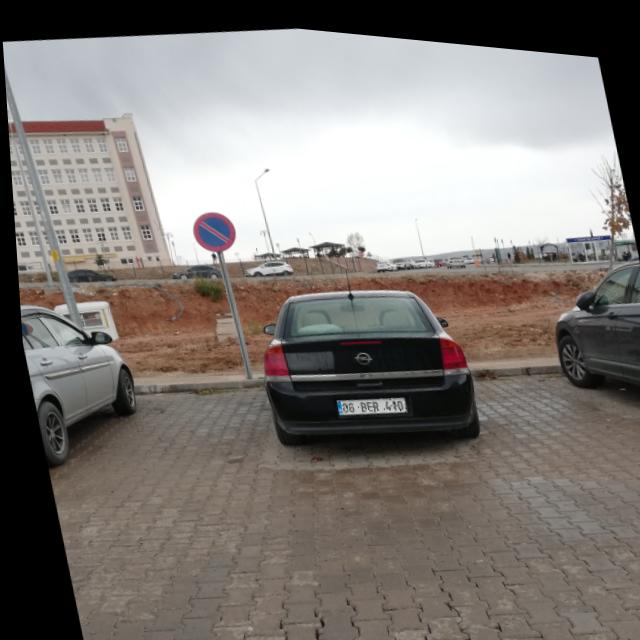license_plate: (331, 384, 406, 415)
